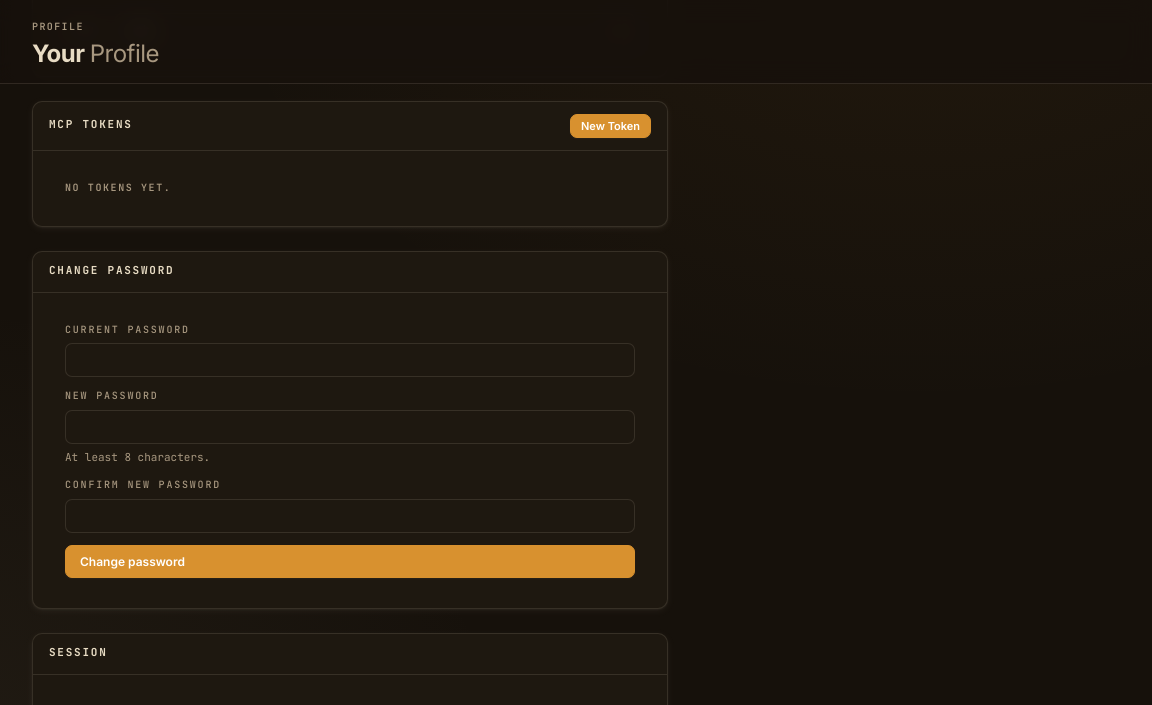
Test: Profile › shows the policy error when the new password is too short
The image size is (1152, 705).
(page scrolled)
In the password field labelled "Current password": [350, 360] box [65,343,635,377], type "secret123"
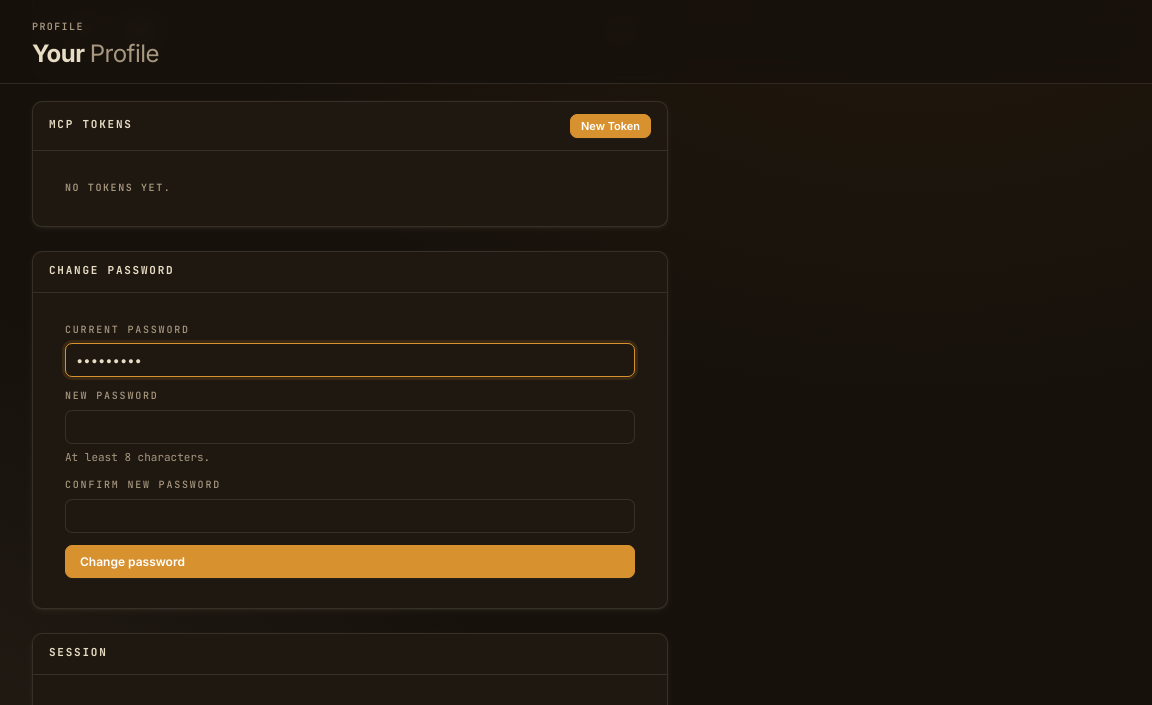
In the password field labelled "New password": [350, 427] box [65,410,635,444], type "short"
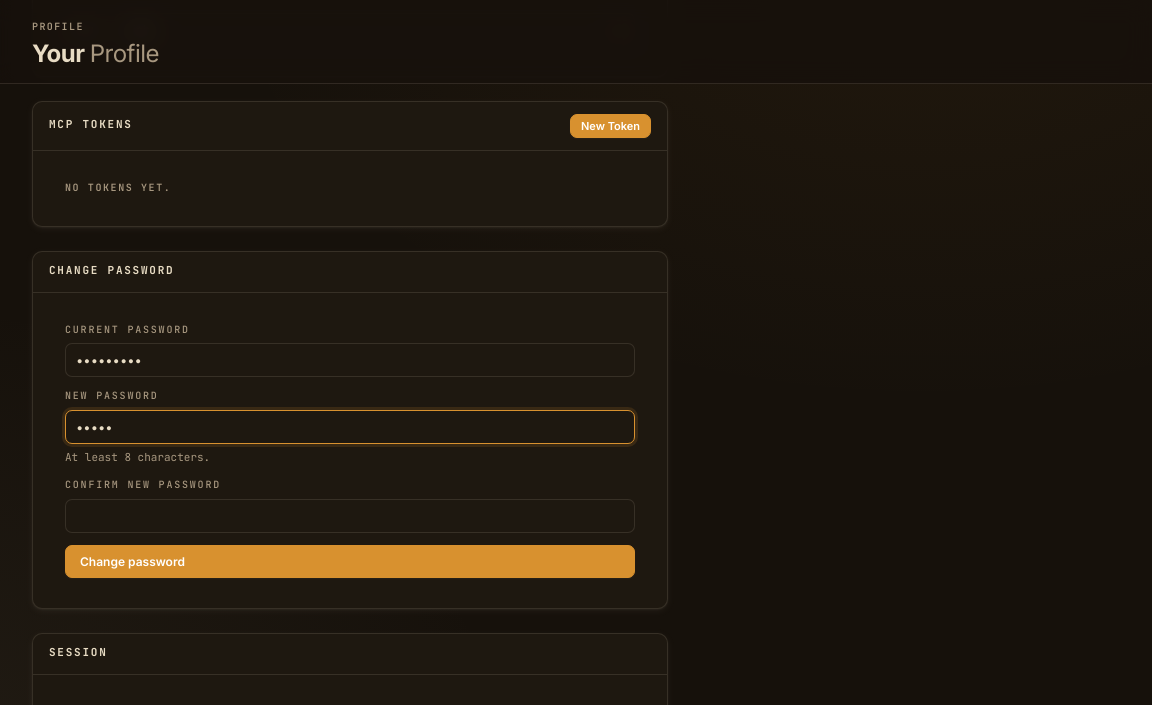
In the password field labelled "Confirm new password": [350, 516] box [65,499,635,533], type "short"
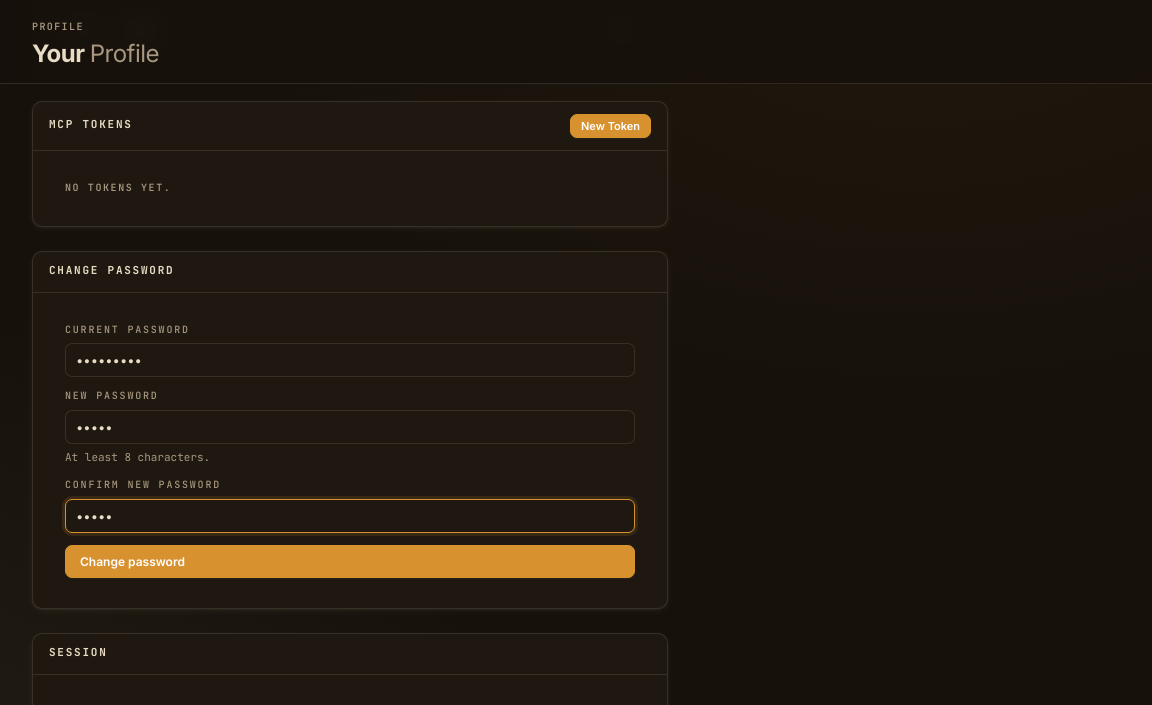
Click the button "Change password": [132, 561] box [65,545,635,578]
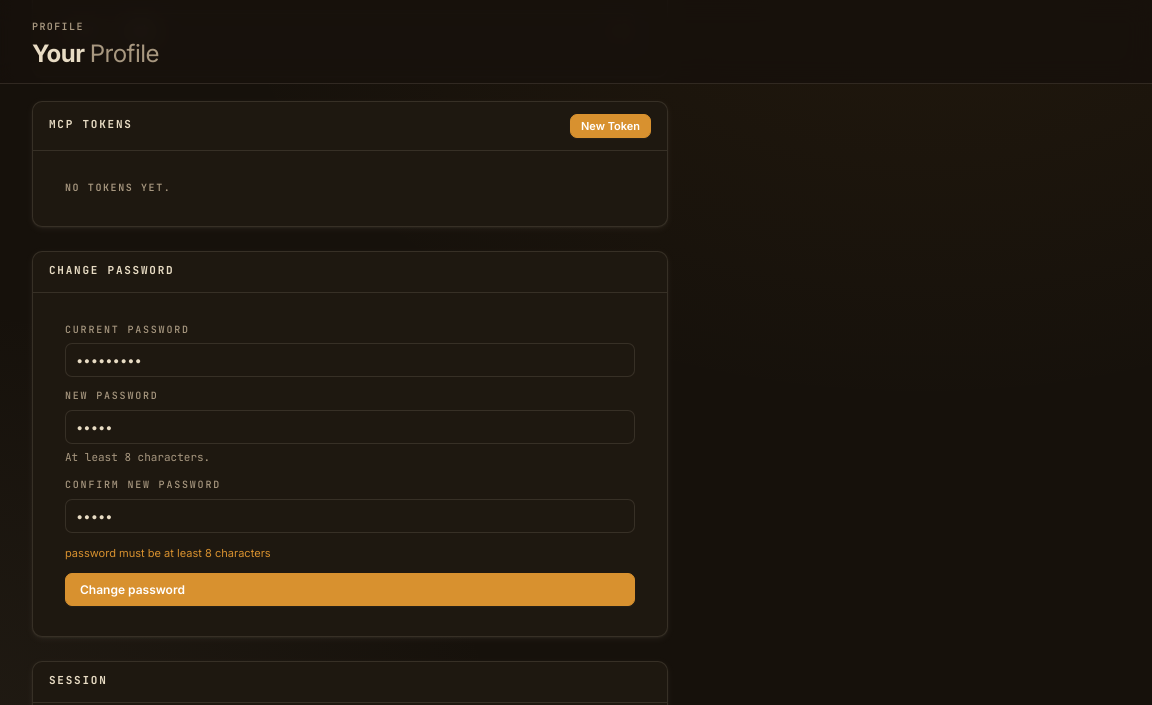
Result: the message reads "password must be at least 8 characters" at [65,546,271,560]
